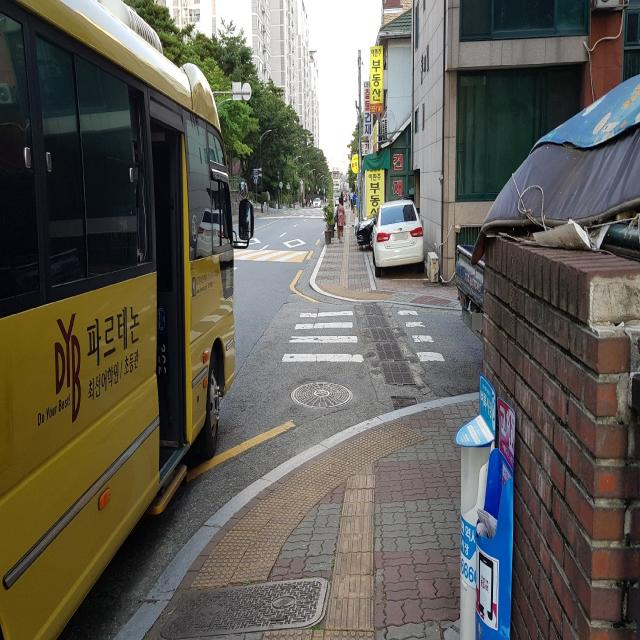횡단보도: (281, 311, 445, 363)
